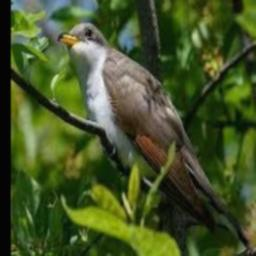Cuckoo: (58, 21, 226, 232)
